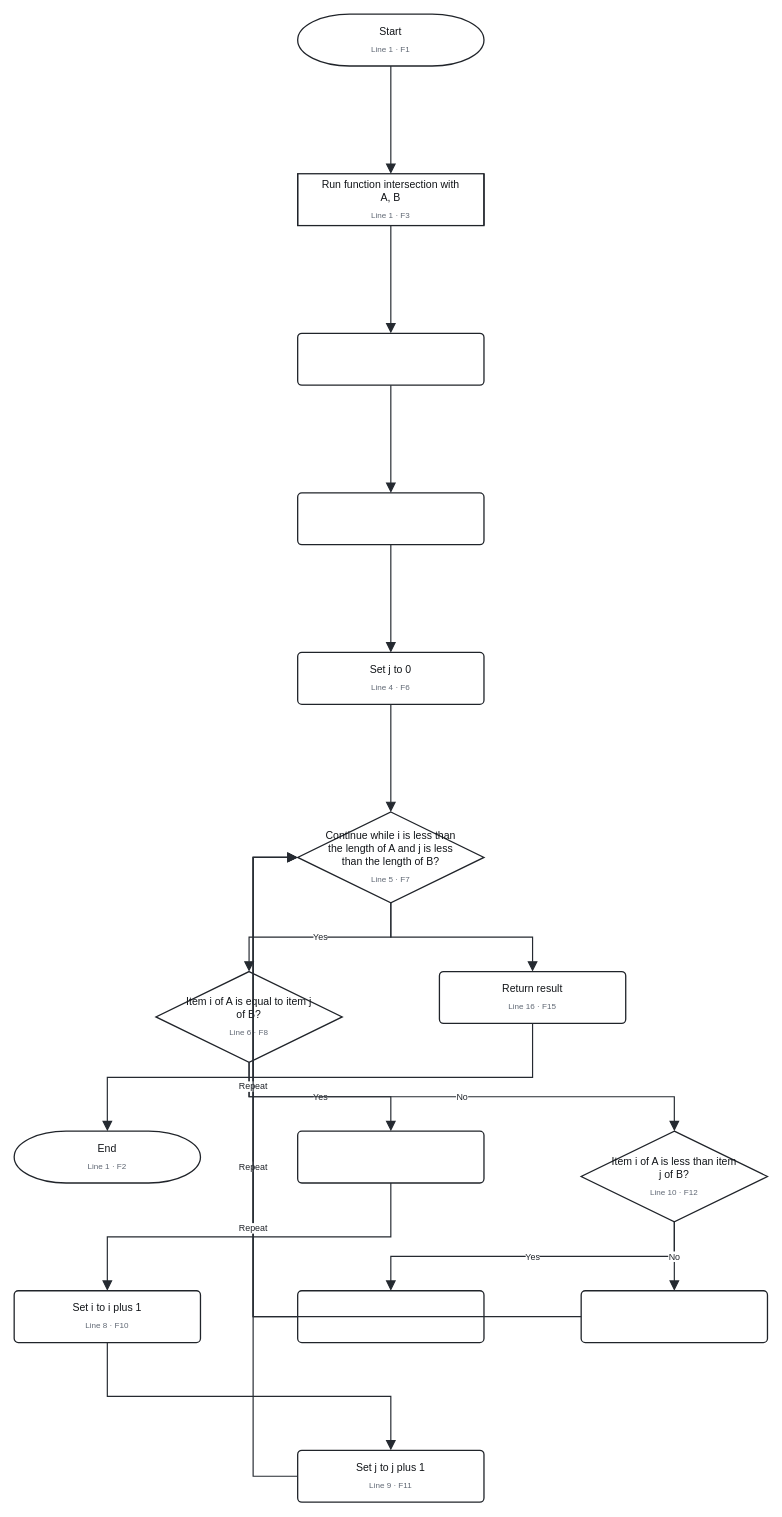
Some shapes in this 782 by 1517 pixel diagram are drawn without their labels. Each missing label, with the centre of its shape:
Append item i of A to result Line 7 · F9: pixel 390 1156
Set i to 0 Line 3 · F5: pixel 390 518
Set i to i plus 1 Line 11 · F13: pixel 390 1316
Set j to j plus 1 Line 13 · F14: pixel 674 1316
Set result to an empty list Line 2 · F4: pixel 390 358
